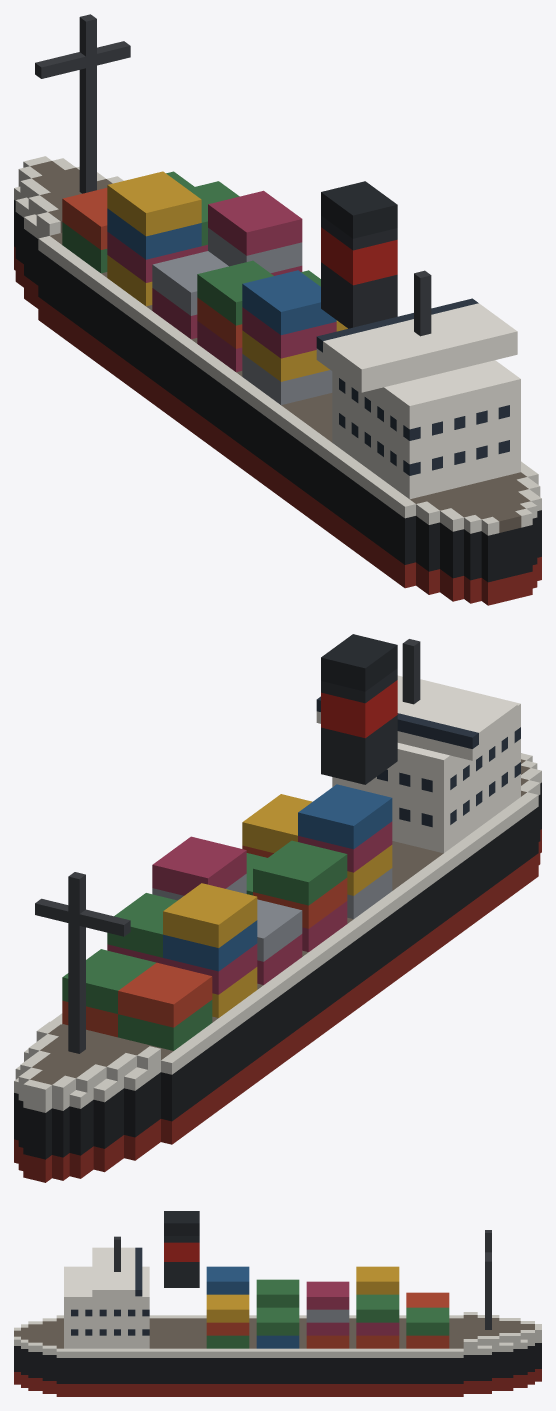
File: ship.gltf
The picture shows the model from 3 angles, top to bottom: view 1: azimuth 30°, elevation 25°; view 2: azimuth 150°, elevation 25°; view 3: azimuth 270°, elevation 25°; orthographic projection. The views are drawn at different scales.
Visible parts, largest first — view 1: ship; view 2: ship; view 3: ship.
Boxes of the visible parts, left/top/right/bottom form: ship: left=14, top=14, right=541, bottom=605; ship: left=14, top=634, right=541, bottom=1182; ship: left=14, top=1211, right=541, bottom=1396.
Size of the model in its own units: 14 by 25 by 74.
